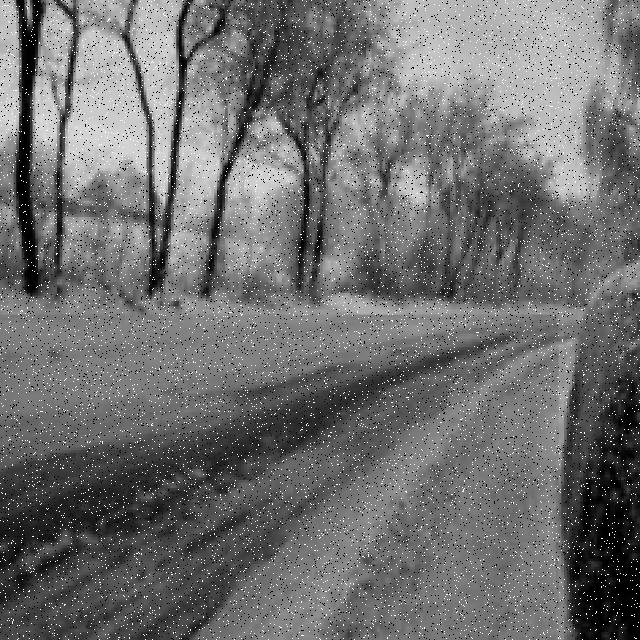ice-road: (0, 317, 559, 640)
